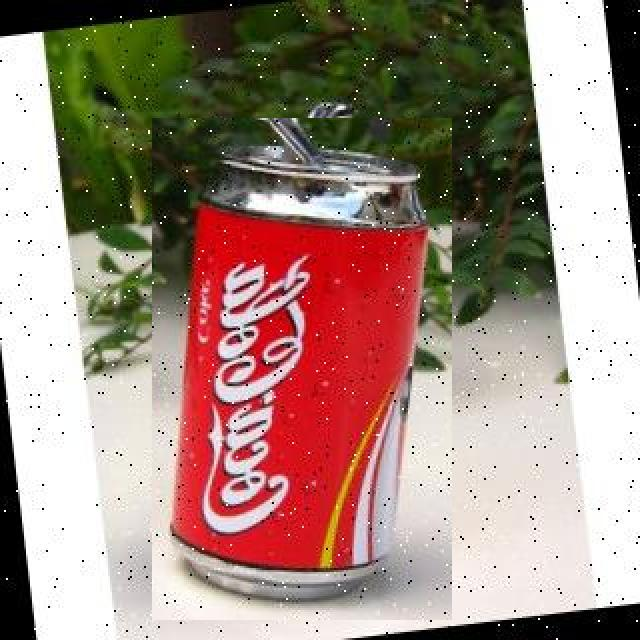coca-cola: (152, 118, 452, 620)
